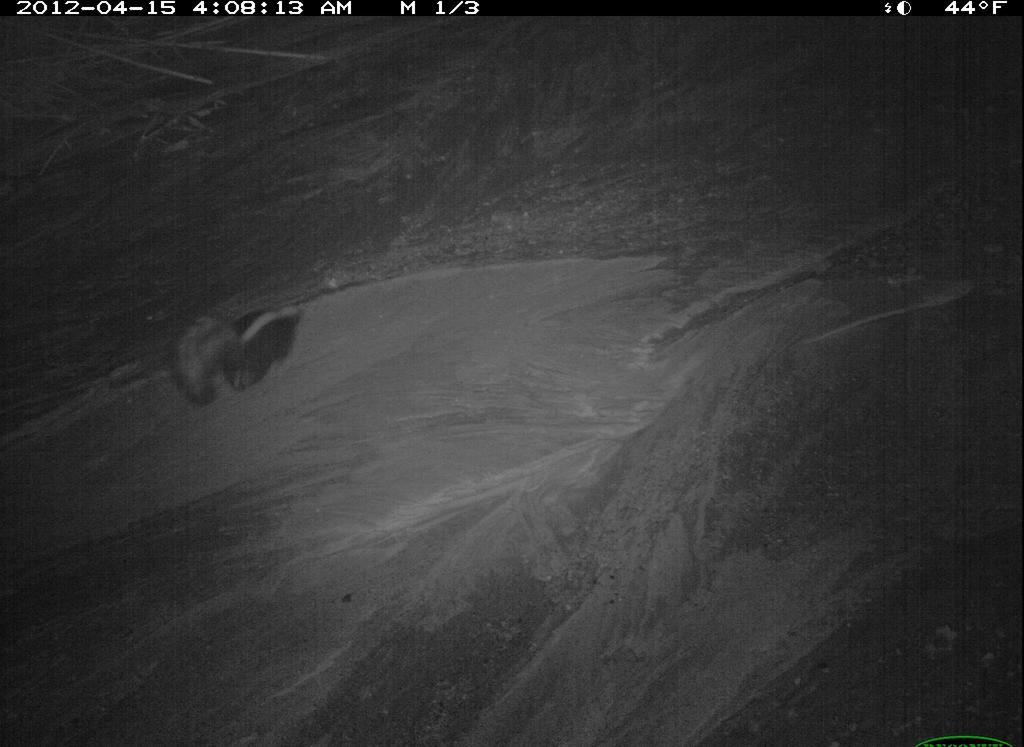skunk: (344, 589, 617, 747)
